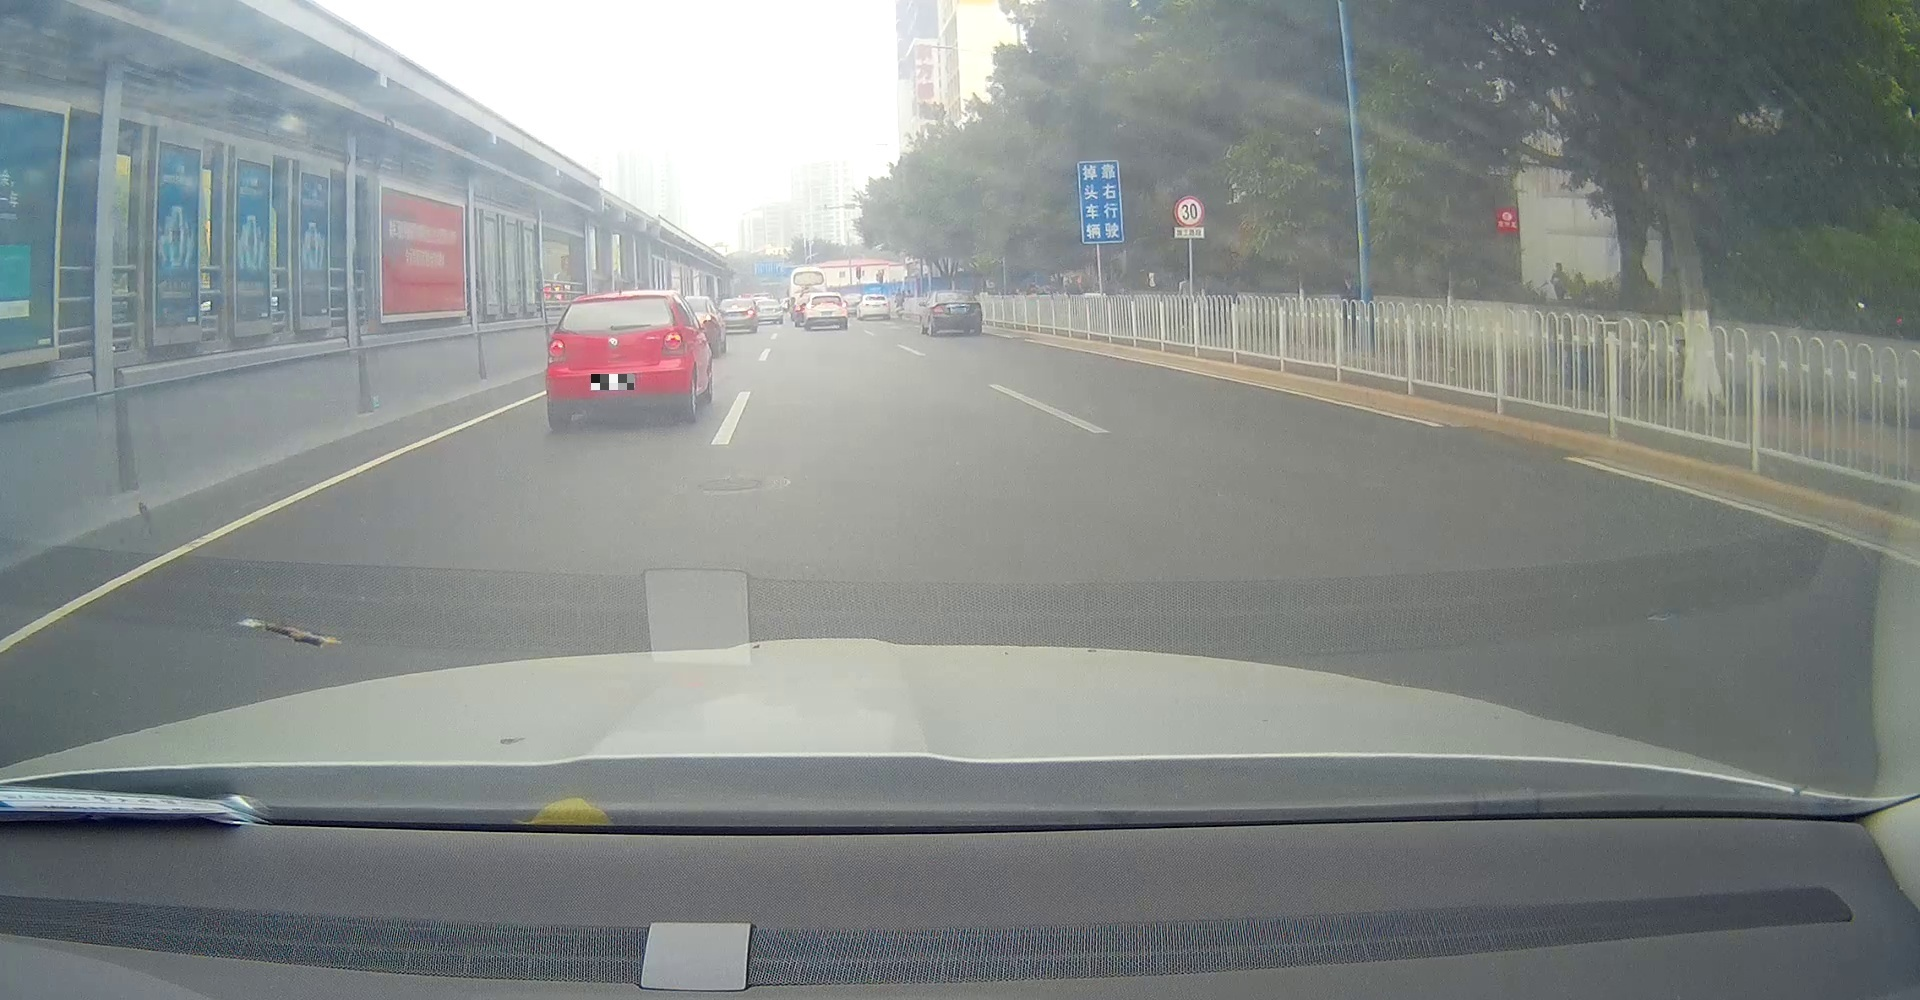L_light: (549, 338, 565, 364), (935, 307, 943, 313), (806, 305, 811, 308)
R_light: (662, 330, 684, 357), (973, 305, 980, 312), (841, 303, 846, 308)
T_light: (610, 296, 630, 301), (952, 292, 957, 294), (822, 303, 830, 305)
day-brake: (546, 291, 688, 429), (804, 292, 848, 330)
day-no: (932, 291, 982, 335)
plate_1: (590, 374, 634, 390)
